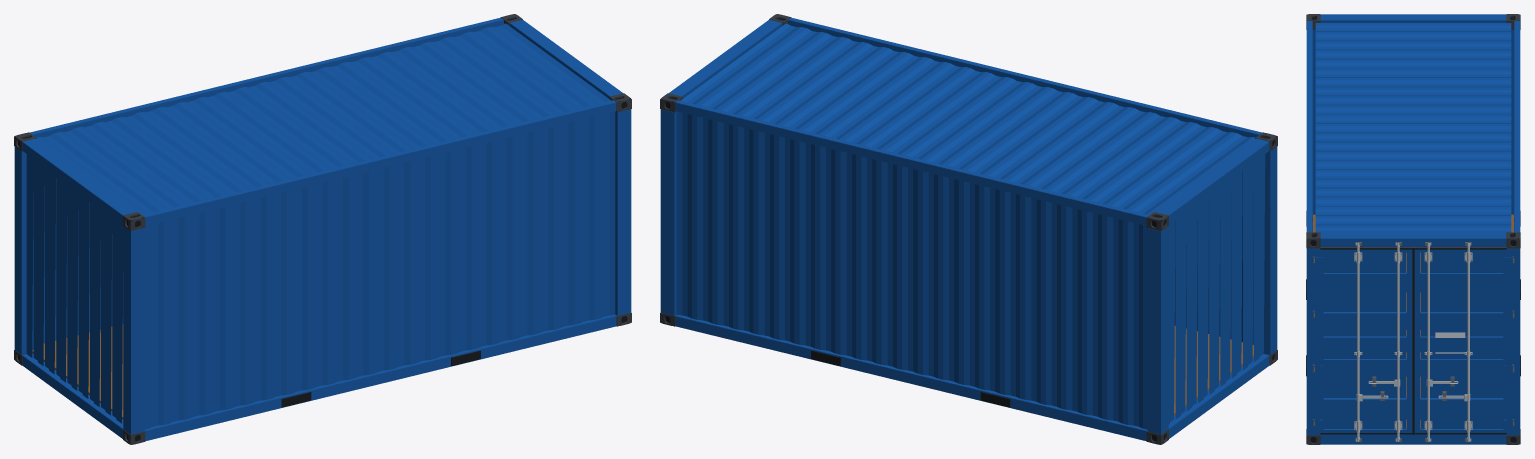
The model's file is iso_20ft_dc_22g1.obj.
The picture shows the model from 3 angles, left to right: view 1: azimuth 30°, elevation 25°; view 2: azimuth 150°, elevation 25°; view 3: azimuth 270°, elevation 25°; orthographic projection. The views are drawn at different scales.
Parts seen in each view (by area): view 1: 04_Corrugated_Corten_Panels, 02_Structural_Frame_Rails, 01_ISO_Corner_Castings_Hollow3D, 03_Marine_Wood_Floor, 01_ISO_Corner_Castings_Hollow3D_Cavity; view 2: 04_Corrugated_Corten_Panels, 02_Structural_Frame_Rails, 01_ISO_Corner_Castings_Hollow3D, 01_ISO_Corner_Castings_Hollow3D_Cavity, 03_Marine_Wood_Floor; view 3: 04_Corrugated_Corten_Panels, 06_Corrugated_Rear_Doors, 02_Structural_Frame_Rails, 07_Galvanized_Locking_Hardware, 05_Door_Rubber_Gaskets_Beveled, 01_ISO_Corner_Castings_Hollow3D, 03_Marine_Wood_Floor, 01_ISO_Corner_Castings_Hollow3D_Cavity, 08_CSC_Safety_Data_Plate.
Boxes of the visible parts, box(x1,y1,x2,y2) form: 04_Corrugated_Corten_Panels: box(26, 23, 615, 429); 02_Structural_Frame_Rails: box(14, 17, 631, 441); 01_ISO_Corner_Castings_Hollow3D: box(14, 14, 631, 444); 03_Marine_Wood_Floor: box(32, 324, 123, 419); 01_ISO_Corner_Castings_Hollow3D_Cavity: box(18, 18, 626, 441); 04_Corrugated_Corten_Panels: box(676, 23, 1265, 429); 02_Structural_Frame_Rails: box(660, 17, 1277, 441); 01_ISO_Corner_Castings_Hollow3D: box(660, 14, 1277, 444); 01_ISO_Corner_Castings_Hollow3D_Cavity: box(665, 18, 1273, 441); 03_Marine_Wood_Floor: box(1174, 326, 1253, 415); 04_Corrugated_Corten_Panels: box(1315, 23, 1511, 232); 06_Corrugated_Rear_Doors: box(1312, 249, 1514, 432); 02_Structural_Frame_Rails: box(1306, 14, 1520, 444); 07_Galvanized_Locking_Hardware: box(1312, 242, 1514, 442); 05_Door_Rubber_Gaskets_Beveled: box(1320, 247, 1506, 434); 01_ISO_Corner_Castings_Hollow3D: box(1306, 14, 1520, 444); 03_Marine_Wood_Floor: box(1313, 214, 1513, 428); 01_ISO_Corner_Castings_Hollow3D_Cavity: box(1306, 17, 1520, 442); 08_CSC_Safety_Data_Plate: box(1435, 332, 1465, 353).
Bounding box in the file's own units: 6.08 × 2.59 × 2.45.
